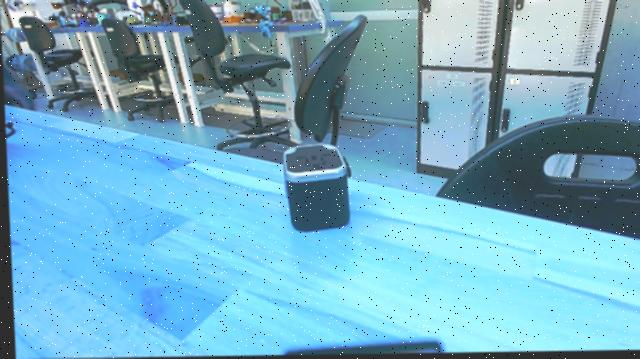adapter: (280, 141, 354, 234)
